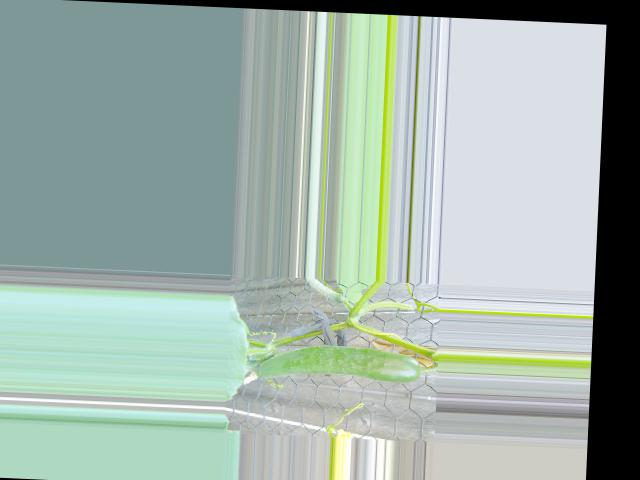cucumber: (257, 341, 421, 384)
